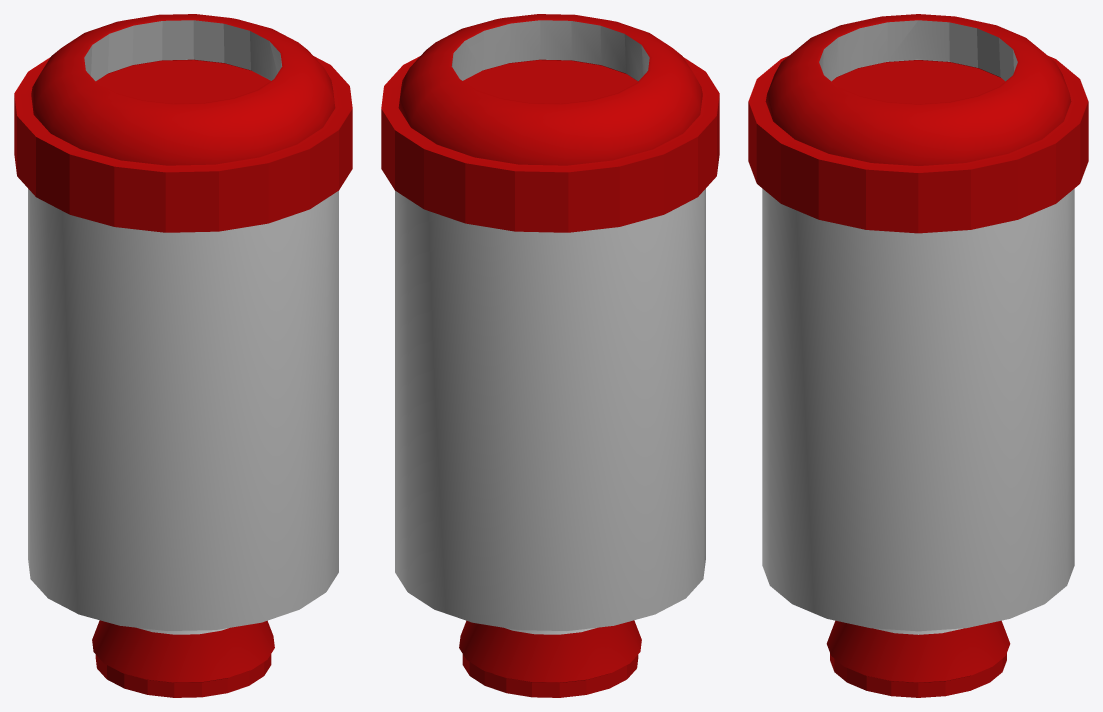
The model's file is RocketPart2.fbx.
3 renders of one model, left to right at view 1: azimuth 30°, elevation 25°; view 2: azimuth 150°, elevation 25°; view 3: azimuth 270°, elevation 25°, orthographic.
Visible parts, largest first — view 1: polySurface29; view 2: polySurface29; view 3: polySurface29.
Part boxes in pixels (box(x1,y1,x2,y2)): polySurface29: box(14, 14, 352, 697); polySurface29: box(381, 14, 719, 697); polySurface29: box(748, 14, 1088, 697).
Bounding box in the file's own units: 6.19 × 12.04 × 6.19.
